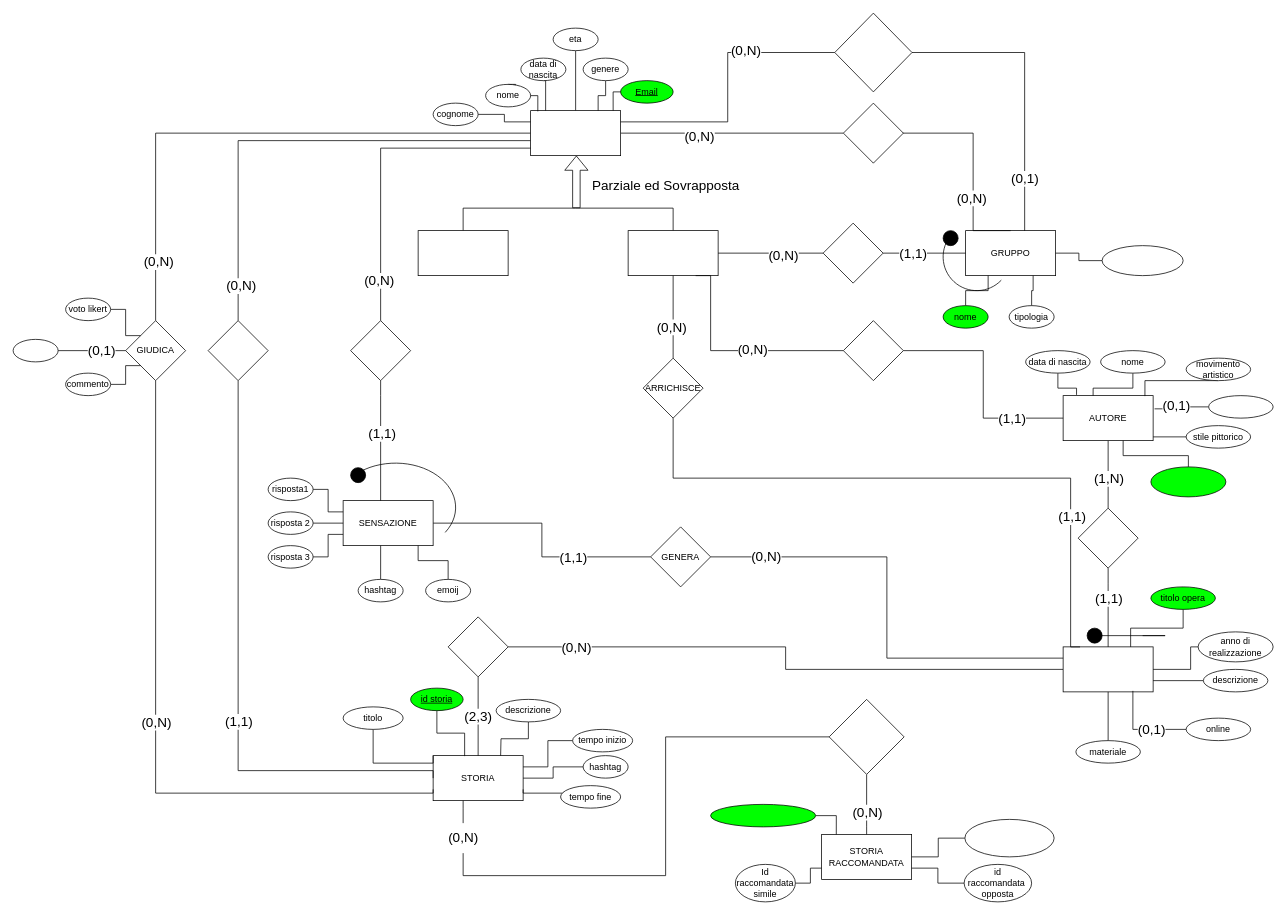
Some shapes in this 1286 by 915 pixel diagram are drawn without their labels. The box of each missing label's shape, as (x1, y1, x2, y2) in pixels:
AGGIUNGE: (843, 320, 903, 381)
Codice autore: (1150, 466, 1226, 497)
CONTIENE: (447, 616, 508, 677)
CREA: (822, 222, 883, 283)
CURATORE: (627, 230, 718, 276)
data di morte: (1208, 395, 1273, 418)
FORNISCE: (350, 320, 411, 381)
GESTISCE: (207, 320, 268, 381)
Id raccomandata uguale: (964, 819, 1054, 857)
id storia_raccomadata: (710, 804, 816, 827)
likeStoria: (12, 339, 58, 362)
numero partecipanti: (1101, 245, 1183, 276)
OPERA D'ARTE: (1062, 646, 1153, 692)
PARTECIPA: (843, 102, 903, 163)
REALIZZA: (1077, 507, 1138, 568)
SUGGERISCE: (828, 699, 904, 774)
SUPERVISIONA: (834, 12, 912, 92)
UTENTE: (530, 110, 621, 156)
UTENTE FRAGILE: (417, 230, 508, 276)
